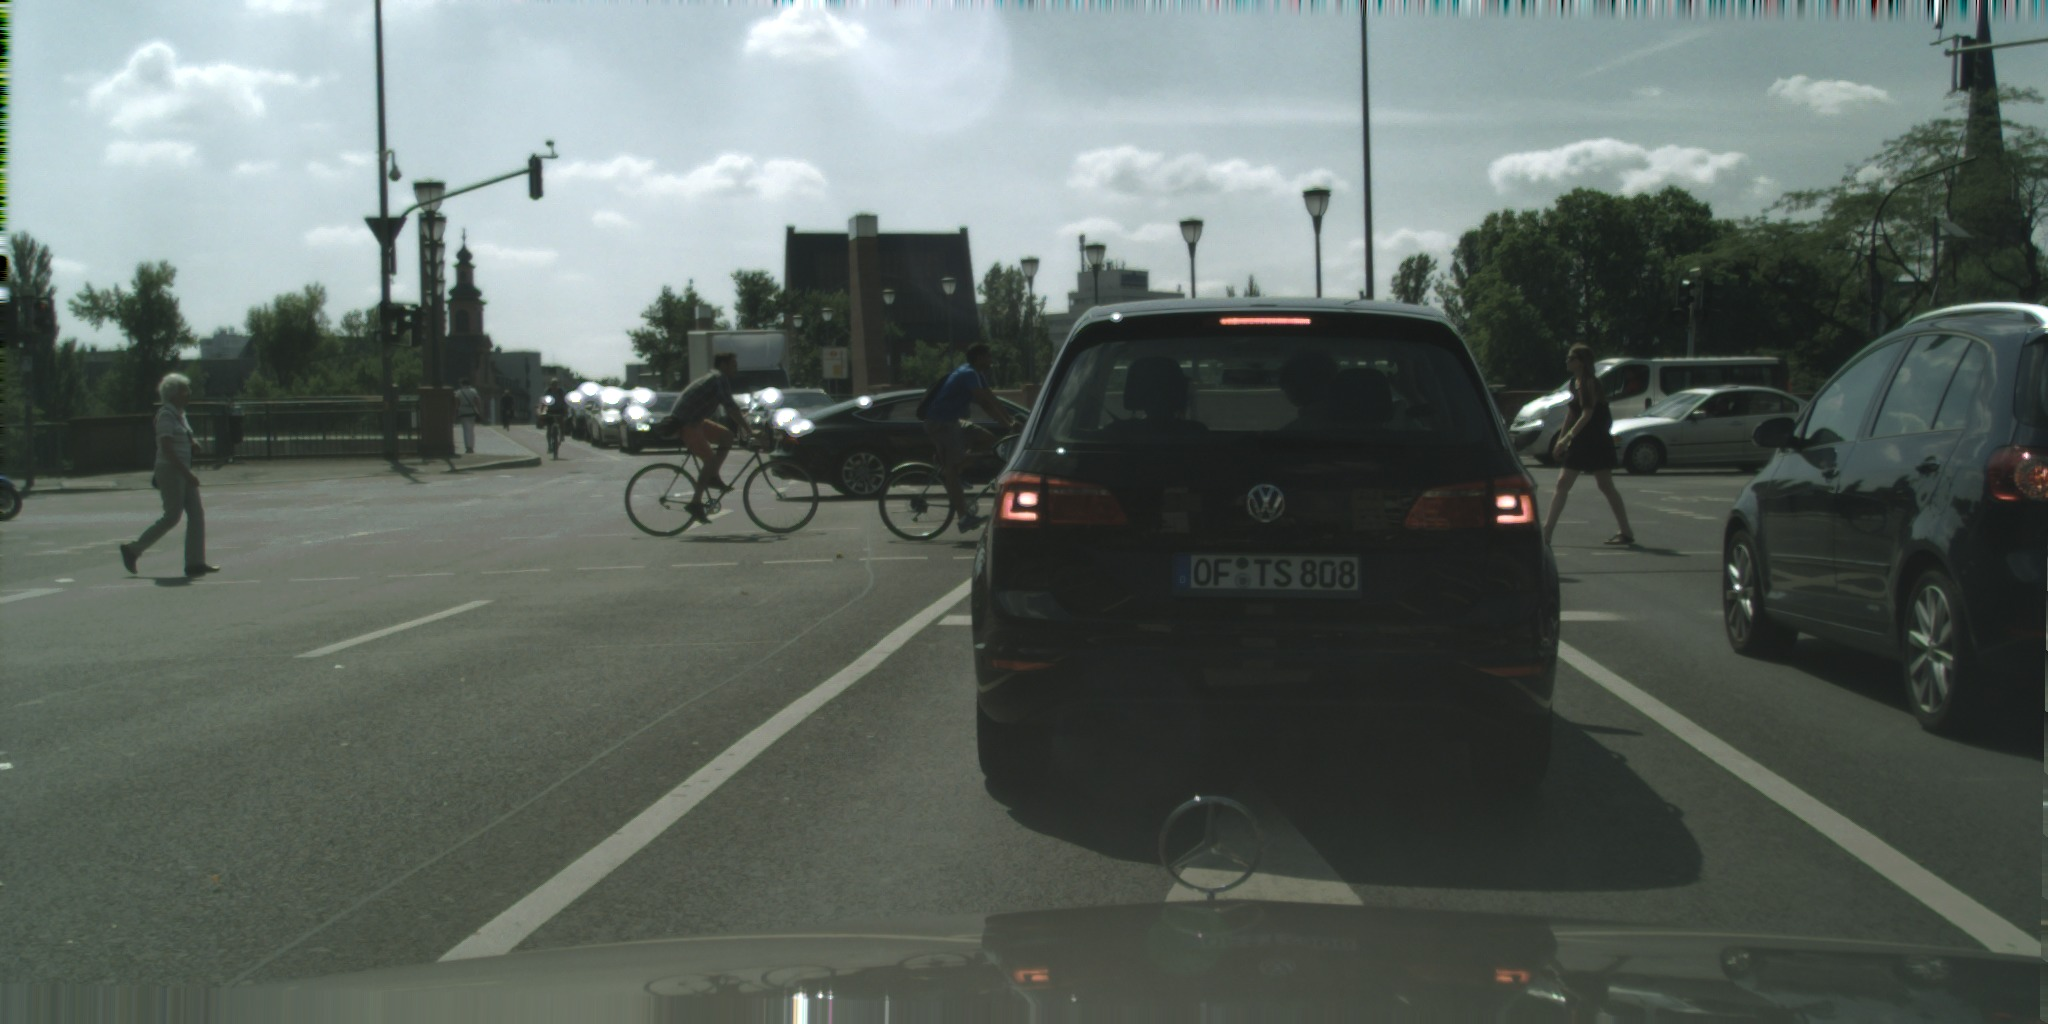bicycle: (623, 415, 819, 538), (878, 436, 1039, 541), (547, 414, 565, 462), (505, 411, 510, 431)
car: (971, 295, 1560, 807), (1721, 300, 2047, 740), (769, 386, 1070, 502), (1502, 356, 1791, 470), (1587, 385, 1829, 483), (737, 388, 849, 459), (615, 391, 715, 456)
motorcycle: (0, 474, 24, 523)
person: (1523, 341, 1635, 548), (119, 371, 221, 580), (454, 377, 485, 454)
rider: (916, 340, 1029, 535), (670, 352, 768, 524), (538, 377, 571, 454), (707, 450, 731, 490), (499, 389, 515, 429)
truck: (686, 328, 791, 439)
